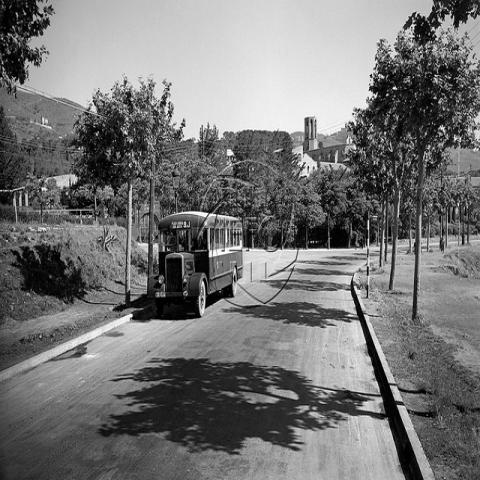bus: (144, 211, 243, 318)
